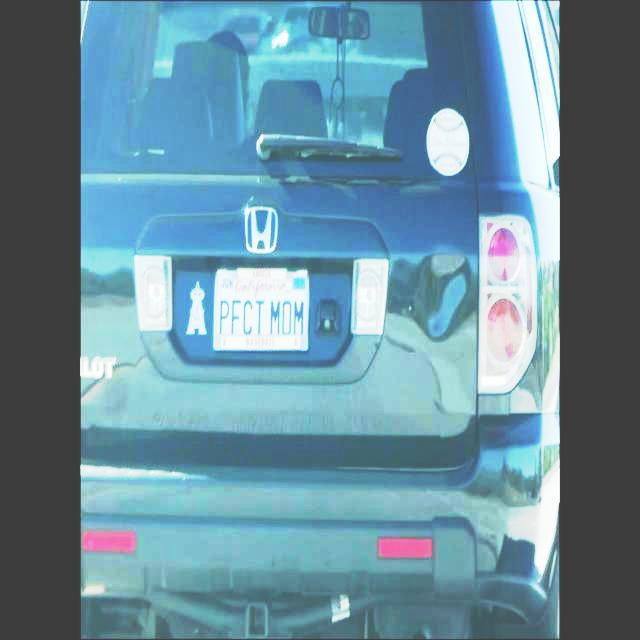license_plate: (203, 264, 322, 354)
